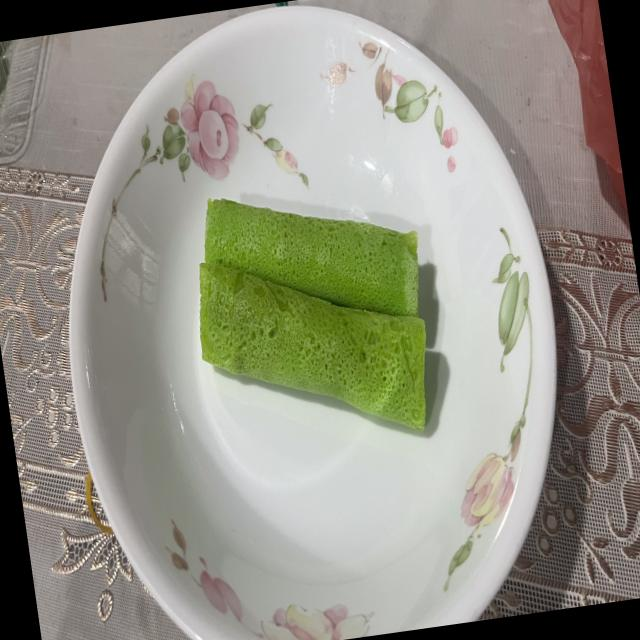Kuih-Ketayap: (200, 262, 426, 430), (205, 199, 419, 317)
